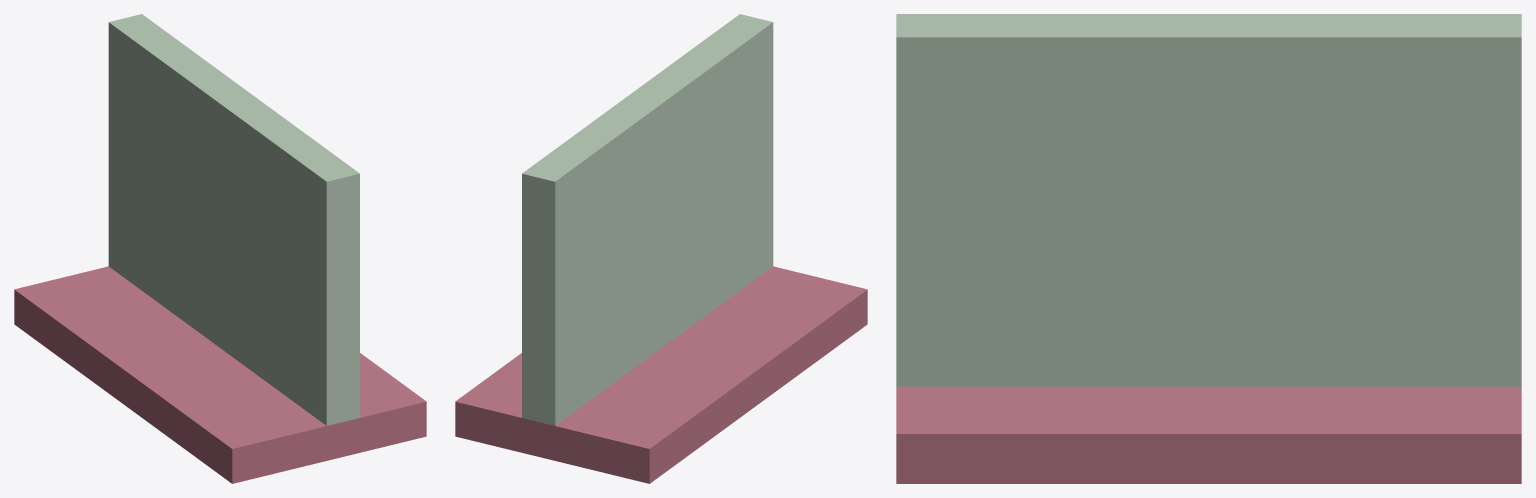
3 renders of one model, left to right at view 1: azimuth 30°, elevation 25°; view 2: azimuth 150°, elevation 25°; view 3: azimuth 270°, elevation 25°, orthographic. The views are drawn at different scales.
Visible parts, largest first — view 1: world; view 2: world; view 3: world.
Boxes of the visible parts, <box> form: world: <box>14,14,426,483</box>; world: <box>455,14,867,483</box>; world: <box>896,14,1521,483</box>.
Size of the model in its own units: 3.5 by 4.8 by 6.8.
